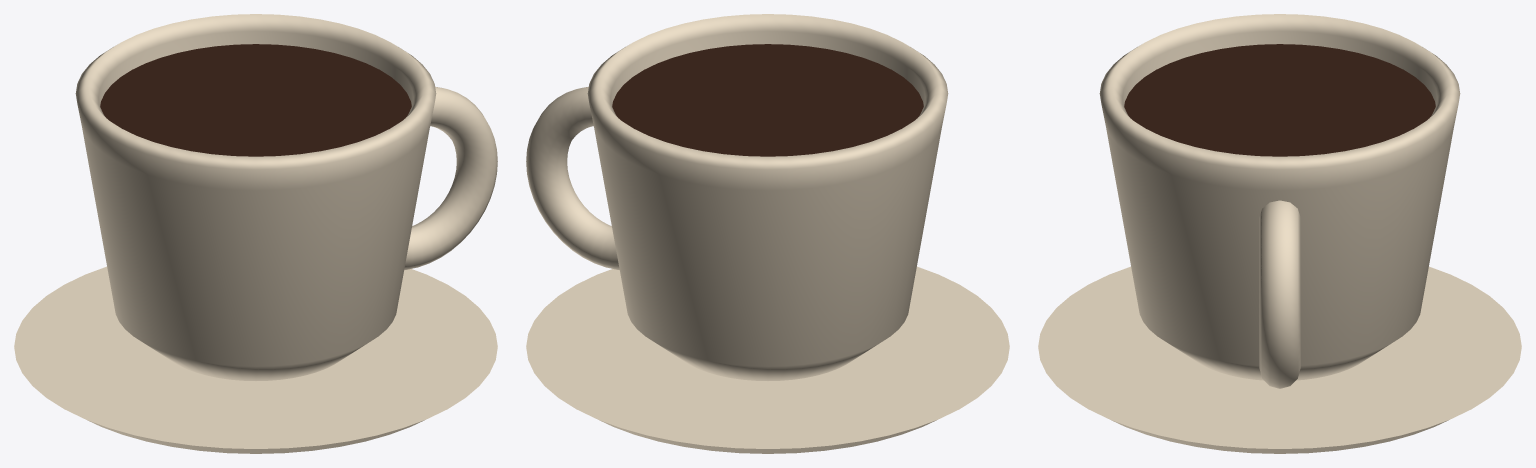
The model's file is ceramic-cup.glb.
3 views of the same model, side by side, from view 1: azimuth 30°, elevation 25°; view 2: azimuth 150°, elevation 25°; view 3: azimuth 270°, elevation 25° (orthographic).
Parts seen in each view (by area): view 1: CeramicCoffeeCup; view 2: CeramicCoffeeCup; view 3: CeramicCoffeeCup.
Boxes of the visible parts, <box> form: CeramicCoffeeCup: <box>14,14,497,453</box>; CeramicCoffeeCup: <box>526,14,1009,453</box>; CeramicCoffeeCup: <box>1038,14,1521,453</box>.
Bounding box in the file's own units: 2.27 × 1.33 × 2.12.
